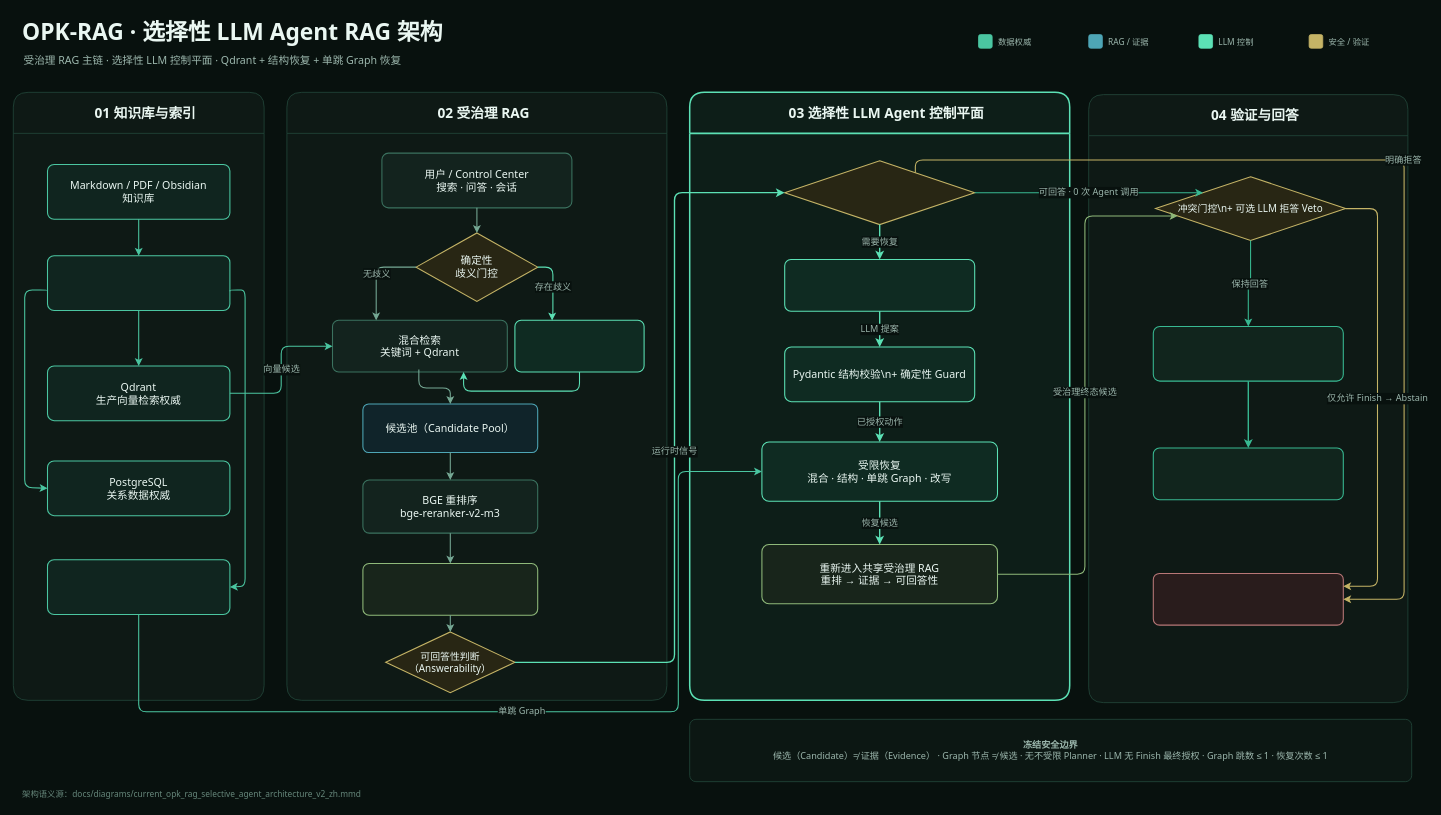
The diagram is 1441 pixels wide and 815 high, and some of its shapes have lost their labels. The shapes that lost their labels are listed below. From the top down, each one's centre as x and y in pixels, then its label:
At pixel 879 192: "必要 LLM 门控\n选择性调用".
At pixel 138 283: "结构感知 Chunking + Qwen3 Embedding".
At pixel 879 285: "LLM 恢复策略\n仅提出建议".
At pixel 579 345: "LLM 歧义改写 最多 1 次".
At pixel 1247 353: "生成 → 证据对齐（Grounding）→ 引用校验".
At pixel 1247 473: "有依据的回答".
At pixel 138 587: "Graph 索引与生命周期 受治理关系权威".
At pixel 450 589: "预算约束的证据（Evidence）组合".
At pixel 1247 599: "受控拒答".
